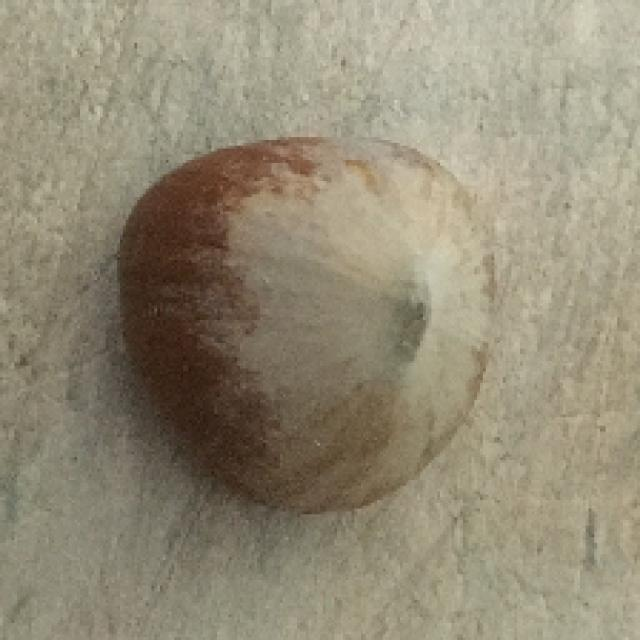QualityHazelnut: (113, 140, 493, 521)
